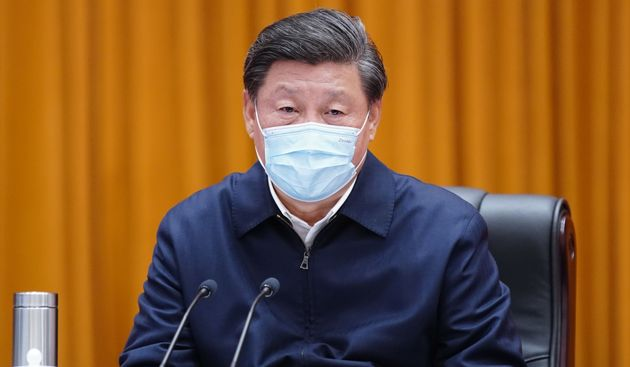with_mask: (254, 49, 373, 219)
